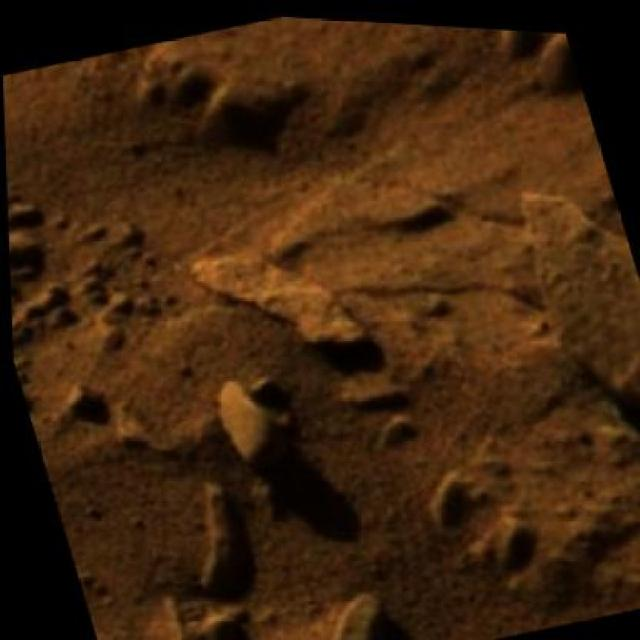rock: (496, 141, 638, 437), (117, 570, 400, 638), (205, 361, 292, 479)
